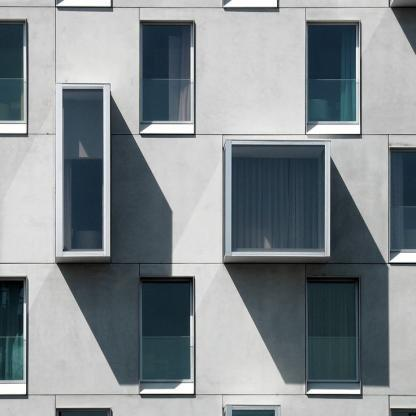Building Outline: (0, 0, 416, 416)
Facade: (0, 0, 416, 416)
Floor: (0, 0, 416, 135), (0, 142, 416, 268), (0, 275, 416, 398), (0, 404, 416, 416)
Floor Slab: (0, 135, 416, 142), (0, 269, 416, 276), (0, 398, 416, 405)
Window: (232, 145, 324, 252), (63, 89, 103, 252), (143, 281, 190, 379), (309, 282, 356, 379), (309, 25, 356, 121), (143, 26, 190, 121), (391, 152, 416, 249), (0, 280, 24, 380), (0, 24, 24, 120), (232, 410, 275, 416), (59, 411, 107, 416)
Window Outline: (226, 139, 331, 257), (55, 83, 111, 257), (140, 275, 195, 395), (306, 276, 361, 394), (140, 20, 195, 135), (306, 20, 360, 135), (0, 276, 27, 395), (389, 147, 416, 264), (0, 18, 27, 134), (226, 404, 281, 416), (56, 408, 112, 416)
